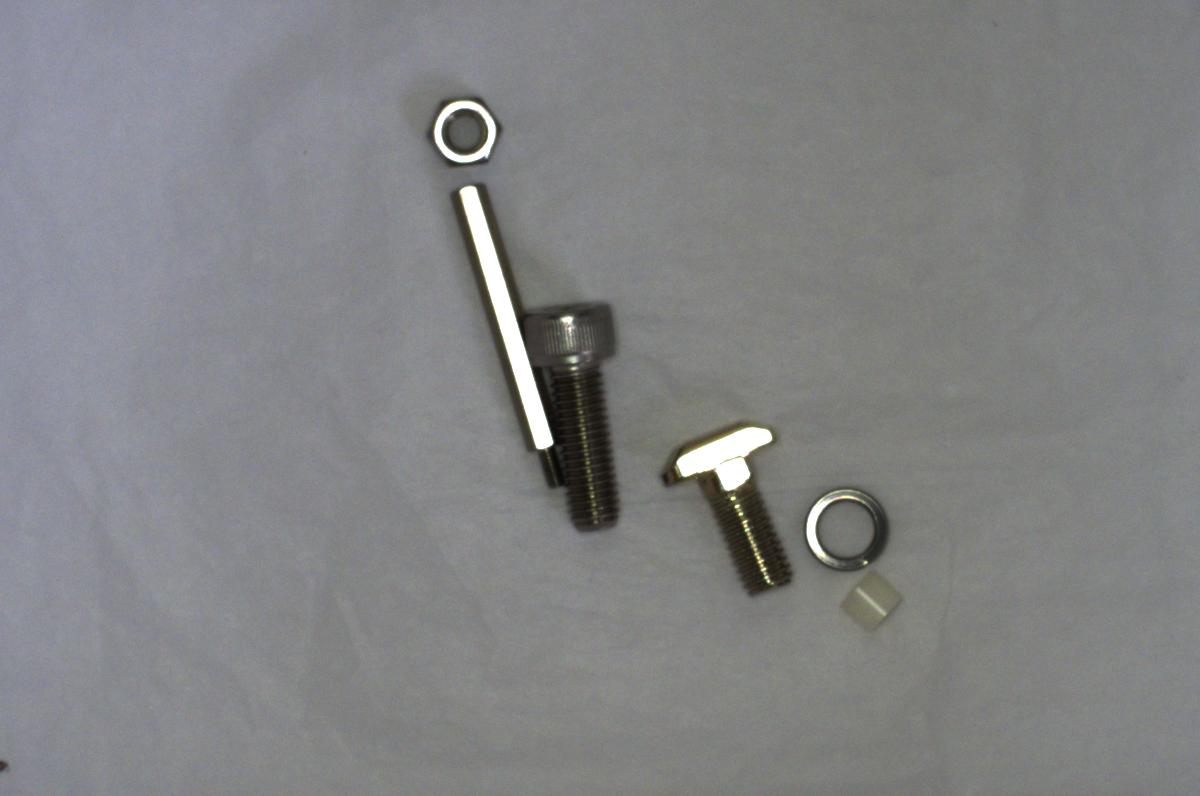Hexagon nut: (415, 86, 507, 173)
Hexagon screw: (524, 286, 632, 536)
Hexagonal steel column: (448, 179, 571, 495)
Plastic cushion pillar: (833, 566, 910, 638)
Spring washer: (794, 473, 892, 578)
T-shaped screw: (668, 418, 795, 595)
